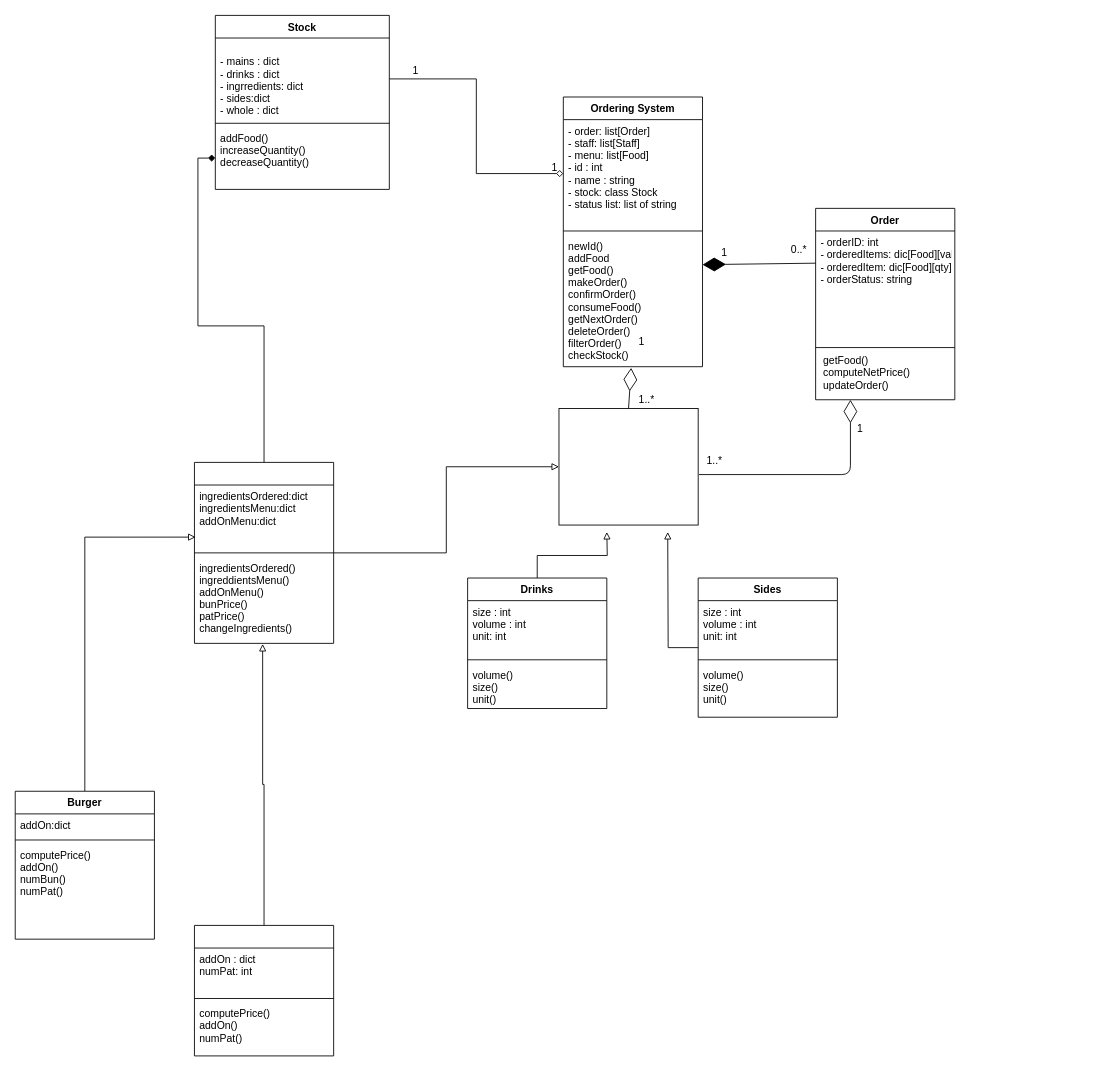
This 1112x1074 diagram has some shape labels left out. The shapes that lost their labels are listed below. From the top down, each one's box as (x1, y1, x2, y2) in pixels, then its label:
(558, 408, 698, 525): Food - name: String - price: float computePrice()
(194, 462, 334, 643): Mains
(194, 925, 334, 1056): Wrap
